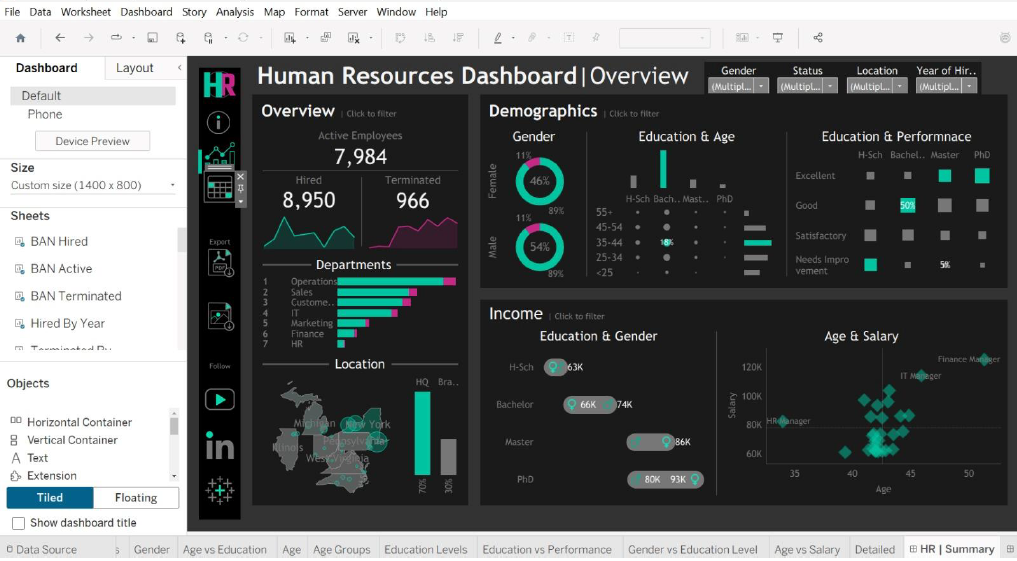

Layout of this report page (visuals, bound fields, positions):
{"tool":"tableau","page":{"name":"HR | Summary","canvas":[1400,800],"ordinal":1},"visuals":[{"type":"blank","box":[91,0,1308,327]},{"type":"text","box":[110,0,773,65]},{"type":"blank","box":[883,0,497,65]},{"type":"filter","title":"Gender vs Education Level","param":"[federated.0ica30m0i9gyzd1bvy2me0bpfdus].[none:Gender:nk]","box":[870,10,116.5,57]},{"type":"filter","title":"Gender vs Education Level","param":"[federated.0ica30m0i9gyzd1bvy2me0bpfdus].[none:Calculation_1193832935055360:nk]","box":[986.5,10,116.5,57]},{"type":"filter","title":"Gender vs Education Level","param":"[federated.0ica30m0i9gyzd1bvy2me0bpfdus].[none:Calculation_0515158649221125:nk]","box":[1103,10,116.5,57]},{"type":"filter","title":"Gender vs Education Level","param":"[federated.0ica30m0i9gyzd1bvy2me0bpfdus].[yr:Hiredate:ok]","box":[1219.5,10,116.5,57]},{"type":"image","param":"Image/Logo.png","box":[20,20,70,55]},{"type":"text","box":[117,72,349,41]},{"type":"text","box":[500,72,873,41]},{"type":"blank","box":[20,75,70,60]},{"type":"dashboard-object","box":[33,89,39,45]},{"type":"text","box":[117,113,349,35]},{"type":"text","box":[500,118,167,34]},{"type":"blank","box":[672,118,1,263]},{"type":"text","box":[678,118,325,34]},{"type":"blank","box":[1008,118,1,263]},{"type":"text","box":[1014,118,359,34]},{"type":"dashboard-object","box":[30,145,50,50]},{"type":"worksheet","title":"BAN Active","mark":"Text","box":[117,148,349,45]},{"type":"worksheet","title":"Gender","mark":"Pie","rows":["Gender"],"cols":["Calculation_0515158658347015","Calculation_0515158658347015"],"box":[500,152,167,229]},{"type":"worksheet","title":"Education Levels","mark":"Bar","rows":["Calculation_0515158633512960"],"cols":["Education Level"],"box":[678,152,325,74]},{"type":"worksheet","title":"Education vs Performance","mark":"Square","rows":["Performance Rating"],"cols":["Education Level"],"box":[1014,152,359,229]},{"type":"blank","box":[19,158,6,40]},{"type":"blank","box":[117,193,349,1]},{"type":"text","box":[117,194,176,29]},{"type":"blank","box":[293,194,1,136]},{"type":"text","box":[294,194,171.9,29]},{"type":"dashboard-object","box":[30,195,50,50]},{"type":"worksheet","title":"BAN Hired","mark":"Text","box":[117,223,176,40]},{"type":"worksheet","title":"BAN Terminated","mark":"Text","box":[294,223,171.9,41]},{"type":"worksheet","title":"Age vs Education","mark":"Circle","rows":["Calculation_0515158662991881"],"cols":["Education Level"],"box":[678,226,255,155]},{"type":"worksheet","title":"Age Groups","mark":"Bar","rows":["Calculation_0515158662991881"],"cols":["Calculation_0515158633512960"],"box":[933,226,56,155]},{"type":"blank","box":[30,245,50,58.5]},{"type":"worksheet","title":"Hired By Year","mark":"Line","rows":["Calculation_0515158633512960","Calculation_0515158633512960"],"cols":["Hiredate"],"box":[117,263,176,67]},{"type":"worksheet","title":"Terminated By Year","mark":"Line","rows":["Calculation_0515158634094593","Calculation_0515158634094593"],"cols":["Termdate"],"box":[294,264,171.9,66]},{"type":"text","box":[30,303.5,50,20]},{"type":"dashboard-object","box":[30,323.5,50,50]},{"type":"text","box":[91,327,1308,189]},{"type":"blank","box":[127,335,82,32]},{"type":"text","box":[209,335,143,32]},{"type":"blank","box":[352,335,104,32]},{"type":"worksheet","title":"Departments","mark":"Bar","rows":["Calculation_0515158648029188","Department"],"cols":["Calculation_0515158633512960"],"box":[117,367,349,130]},{"type":"dashboard-object","box":[30,373.5,50,131]},{"type":"text","box":[500,417.5,873,32]},{"type":"text","box":[500,454.5,385,34]},{"type":"blank","box":[890,454.5,1,294.5]},{"type":"text","box":[896,454.5,477,34]},{"type":"worksheet","title":"Gender vs Education Level","mark":"Square","rows":["Education Level"],"cols":["Salary","Salary"],"box":[500,488.5,385,260.5]},{"type":"worksheet","title":"Age vs Salary","mark":"Shape","rows":["Salary"],"cols":["Calculation_0515158662189064"],"box":[896,488.5,477,260.5]},{"type":"blank","box":[127,502,112.3,32]},{"type":"text","box":[239.3,502,104.3,32]},{"type":"blank","box":[343.7,502,112.3,32]},{"type":"text","box":[30,504.5,50,36]},{"type":"worksheet","title":" Map States","mark":"Automatic","box":[117,534,253,215]},{"type":"worksheet","title":"Location","mark":"Bar","rows":["Calculation_0515158633512960"],"cols":["Calculation_0515158649221125","Calculation1"],"box":[370,534,96,215]},{"type":"image","param":"Image/contact-channel.png","box":[30,540.5,50,76.5]},{"type":"image","param":"Image/contact-linkedin.png","box":[30,617,50,76.5]},{"type":"image","param":"Image/contact-public.png","box":[30,693.5,50,76.5]}]}

Visuals, with their boxes on the page's 1400x800 design canvas (x1, y1, x2, y2). These are canvas units, not pixel positions in the 1017x561 screenshot, which may show the page scaled, cropped or inside an application window:
blank: [left=91, top=0, right=1399, bottom=327]
text: [left=110, top=0, right=883, bottom=65]
blank: [left=883, top=0, right=1380, bottom=65]
"Gender vs Education Level" filter: [left=870, top=10, right=986, bottom=67]
"Gender vs Education Level" filter: [left=986, top=10, right=1103, bottom=67]
"Gender vs Education Level" filter: [left=1103, top=10, right=1220, bottom=67]
"Gender vs Education Level" filter: [left=1220, top=10, right=1336, bottom=67]
image: [left=20, top=20, right=90, bottom=75]
text: [left=117, top=72, right=466, bottom=113]
text: [left=500, top=72, right=1373, bottom=113]
blank: [left=20, top=75, right=90, bottom=135]
dashboard-object: [left=33, top=89, right=72, bottom=134]
text: [left=117, top=113, right=466, bottom=148]
text: [left=500, top=118, right=667, bottom=152]
blank: [left=672, top=118, right=673, bottom=381]
text: [left=678, top=118, right=1003, bottom=152]
blank: [left=1008, top=118, right=1009, bottom=381]
text: [left=1014, top=118, right=1373, bottom=152]
dashboard-object: [left=30, top=145, right=80, bottom=195]
"BAN Active" worksheet (Text marks): [left=117, top=148, right=466, bottom=193]
"Gender" worksheet (Pie marks): [left=500, top=152, right=667, bottom=381]
"Education Levels" worksheet (Bar marks): [left=678, top=152, right=1003, bottom=226]
"Education vs Performance" worksheet (Square marks): [left=1014, top=152, right=1373, bottom=381]
blank: [left=19, top=158, right=25, bottom=198]
blank: [left=117, top=193, right=466, bottom=194]
text: [left=117, top=194, right=293, bottom=223]
blank: [left=293, top=194, right=294, bottom=330]
text: [left=294, top=194, right=466, bottom=223]
dashboard-object: [left=30, top=195, right=80, bottom=245]
"BAN Hired" worksheet (Text marks): [left=117, top=223, right=293, bottom=263]
"BAN Terminated" worksheet (Text marks): [left=294, top=223, right=466, bottom=264]
"Age vs Education" worksheet (Circle marks): [left=678, top=226, right=933, bottom=381]
"Age Groups" worksheet (Bar marks): [left=933, top=226, right=989, bottom=381]
blank: [left=30, top=245, right=80, bottom=304]
"Hired By Year" worksheet (Line marks): [left=117, top=263, right=293, bottom=330]
"Terminated By Year" worksheet (Line marks): [left=294, top=264, right=466, bottom=330]
text: [left=30, top=304, right=80, bottom=324]
dashboard-object: [left=30, top=324, right=80, bottom=374]
text: [left=91, top=327, right=1399, bottom=516]
blank: [left=127, top=335, right=209, bottom=367]
text: [left=209, top=335, right=352, bottom=367]
blank: [left=352, top=335, right=456, bottom=367]
"Departments" worksheet (Bar marks): [left=117, top=367, right=466, bottom=497]
dashboard-object: [left=30, top=374, right=80, bottom=504]
text: [left=500, top=418, right=1373, bottom=450]
text: [left=500, top=454, right=885, bottom=488]
blank: [left=890, top=454, right=891, bottom=749]
text: [left=896, top=454, right=1373, bottom=488]
"Gender vs Education Level" worksheet (Square marks): [left=500, top=488, right=885, bottom=749]
"Age vs Salary" worksheet (Shape marks): [left=896, top=488, right=1373, bottom=749]
blank: [left=127, top=502, right=239, bottom=534]
text: [left=239, top=502, right=344, bottom=534]
blank: [left=344, top=502, right=456, bottom=534]
text: [left=30, top=504, right=80, bottom=540]
" Map States" worksheet: [left=117, top=534, right=370, bottom=749]
"Location" worksheet (Bar marks): [left=370, top=534, right=466, bottom=749]
image: [left=30, top=540, right=80, bottom=617]
image: [left=30, top=617, right=80, bottom=694]
image: [left=30, top=694, right=80, bottom=770]
